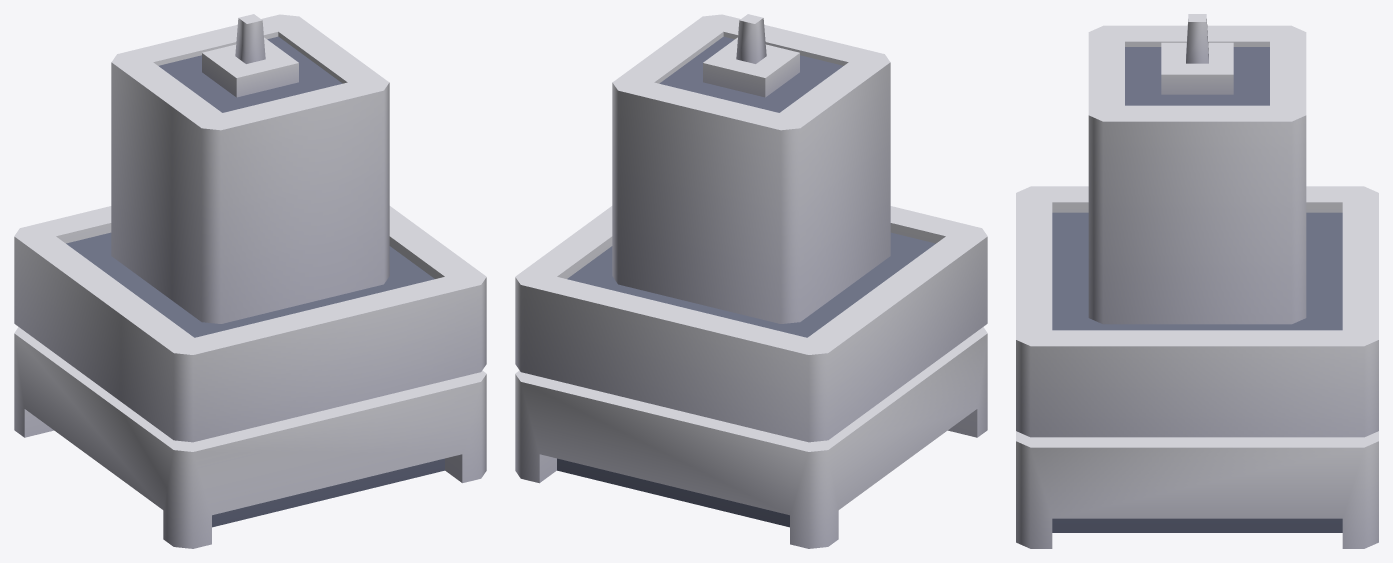
The model's file is building-b_far.glb.
3 renders of one model, left to right at view 1: azimuth 30°, elevation 25°; view 2: azimuth 150°, elevation 25°; view 3: azimuth 270°, elevation 25°, orthographic. The views are drawn at different scales.
Visible parts, largest first — view 1: low-detail-building-b; view 2: low-detail-building-b; view 3: low-detail-building-b.
Boxes of the visible parts, <box> form: low-detail-building-b: <box>14,14,486,548</box>; low-detail-building-b: <box>515,14,987,548</box>; low-detail-building-b: <box>1016,14,1378,548</box>.
Bounding box in the file's own units: 0.98 × 1.29 × 0.94.
Materials: 1 (1 with a texture image).
